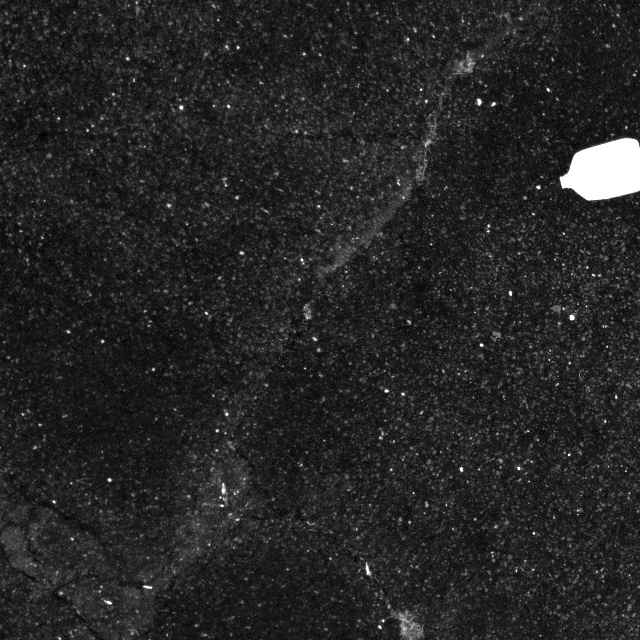can: (545, 123, 640, 210)
